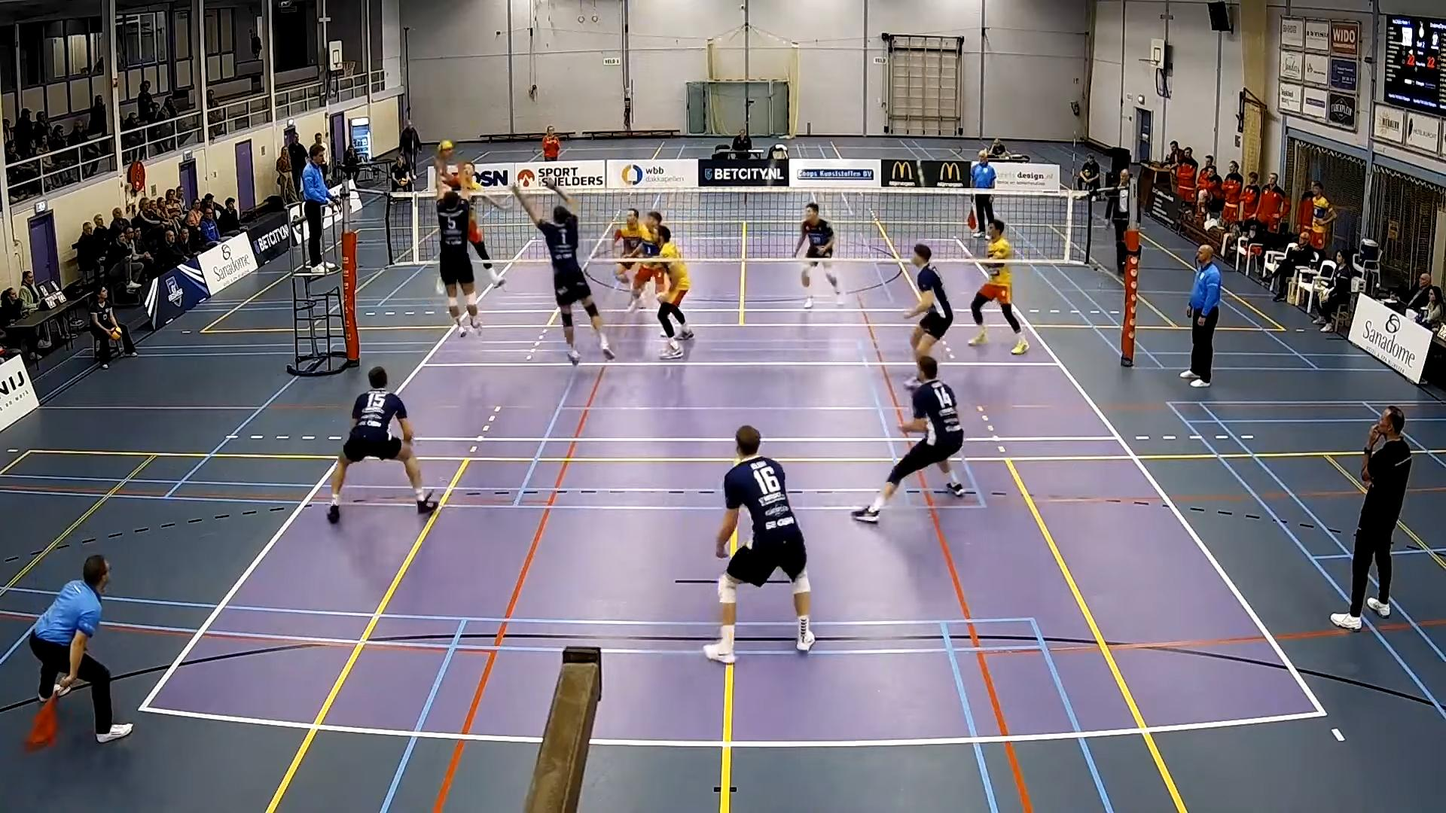Attack: (432, 149, 507, 290)
Block: (516, 174, 622, 369), (420, 164, 481, 339)
Player: (704, 425, 814, 662), (852, 356, 964, 522), (327, 367, 437, 522), (969, 219, 1029, 355), (905, 243, 953, 360), (794, 202, 843, 309), (656, 224, 693, 359), (626, 211, 666, 312), (613, 209, 652, 282)
ball: (436, 137, 456, 153)
